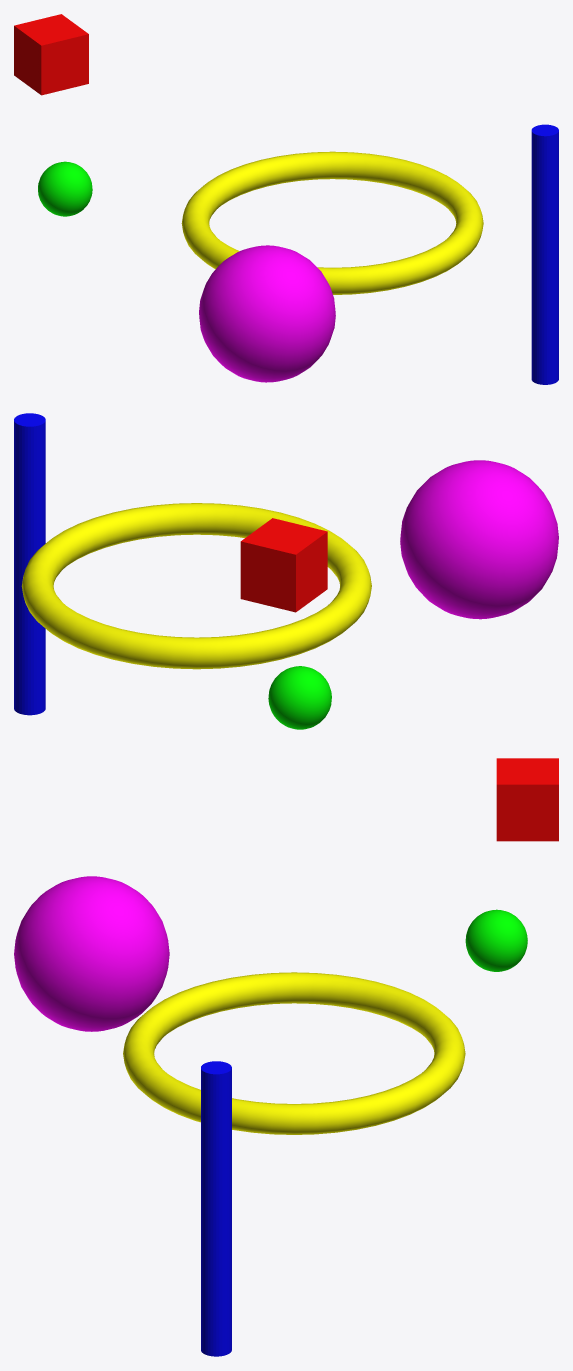
File: primitives5.glb
3 renders of one model, top to bottom at view 1: azimuth 30°, elevation 25°; view 2: azimuth 150°, elevation 25°; view 3: azimuth 270°, elevation 25°, orthographic. The views are drawn at different scales.
Parts seen in each view (by area): view 1: Torus.003, Sphere.005, Cylinder.003, Cube.009, Sphere.006; view 2: Torus.003, Sphere.005, Cylinder.003, Cube.009, Sphere.006; view 3: Torus.003, Sphere.005, Cylinder.003, Cube.009, Sphere.006.
Boxes of the visible parts, x1,y1,x2,y2 form: Torus.003: (181,151,483,294); Sphere.005: (199,245,335,382); Cylinder.003: (531,124,558,384); Cube.009: (14,14,88,95); Sphere.006: (38,161,92,216); Torus.003: (21,503,371,669); Sphere.005: (400,460,558,619); Cylinder.003: (14,413,45,715); Cube.009: (240,518,327,612); Sphere.006: (268,666,331,729); Torus.003: (123,972,465,1134); Sphere.005: (14,876,169,1031); Cylinder.003: (201,1061,231,1356); Cube.009: (496,758,558,841); Sphere.006: (465,909,527,971).
Size of the model in its own units: 6.8 by 5.4 by 7.
